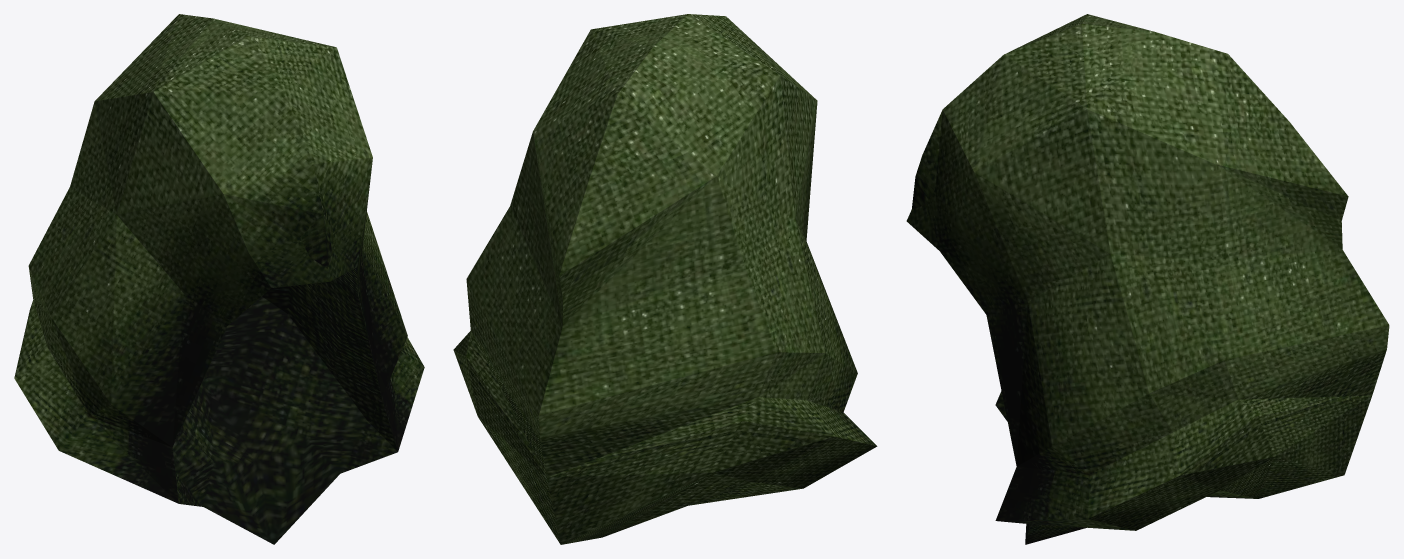
Rendered from HUM_HELM_2ZIEL.glb.
The picture shows the model from 3 angles, left to right: view 1: azimuth 30°, elevation 25°; view 2: azimuth 150°, elevation 25°; view 3: azimuth 270°, elevation 25°; orthographic projection. The views are drawn at different scales.
Visible parts, largest first — view 1: HUM_HELM_2ZIEL; view 2: HUM_HELM_2ZIEL; view 3: HUM_HELM_2ZIEL.
Boxes of the visible parts, bbox=[...] form: HUM_HELM_2ZIEL: bbox=[14, 14, 424, 544]; HUM_HELM_2ZIEL: bbox=[453, 14, 877, 544]; HUM_HELM_2ZIEL: bbox=[906, 14, 1389, 544].
Bounding box in the file's own units: 0.3241 × 0.4106 × 0.345.
Materials: 1 (1 with a texture image).
